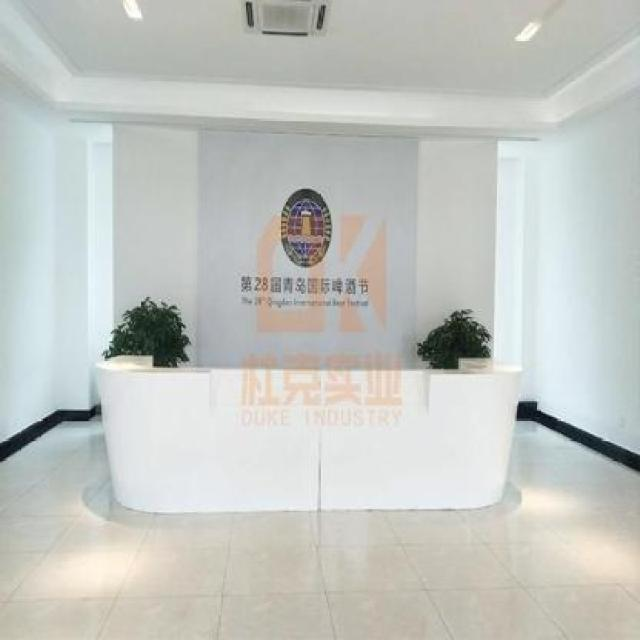frontdesk: (92, 324, 531, 524)
